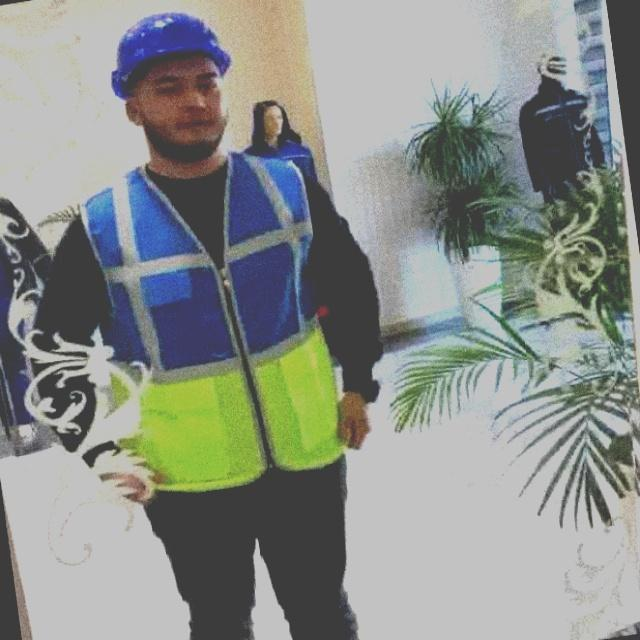helmet: (109, 11, 249, 96)
safety_vest: (71, 157, 364, 508)
